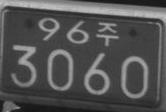0: (45, 48, 74, 92), (120, 55, 149, 99)
3: (10, 43, 37, 87)
6: (83, 52, 111, 96), (66, 19, 89, 44)
9: (37, 16, 60, 41)
주: (96, 21, 118, 46)
